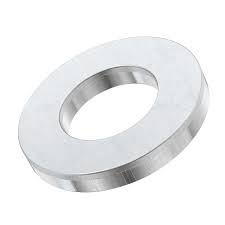No thread: (57, 70, 168, 140)
